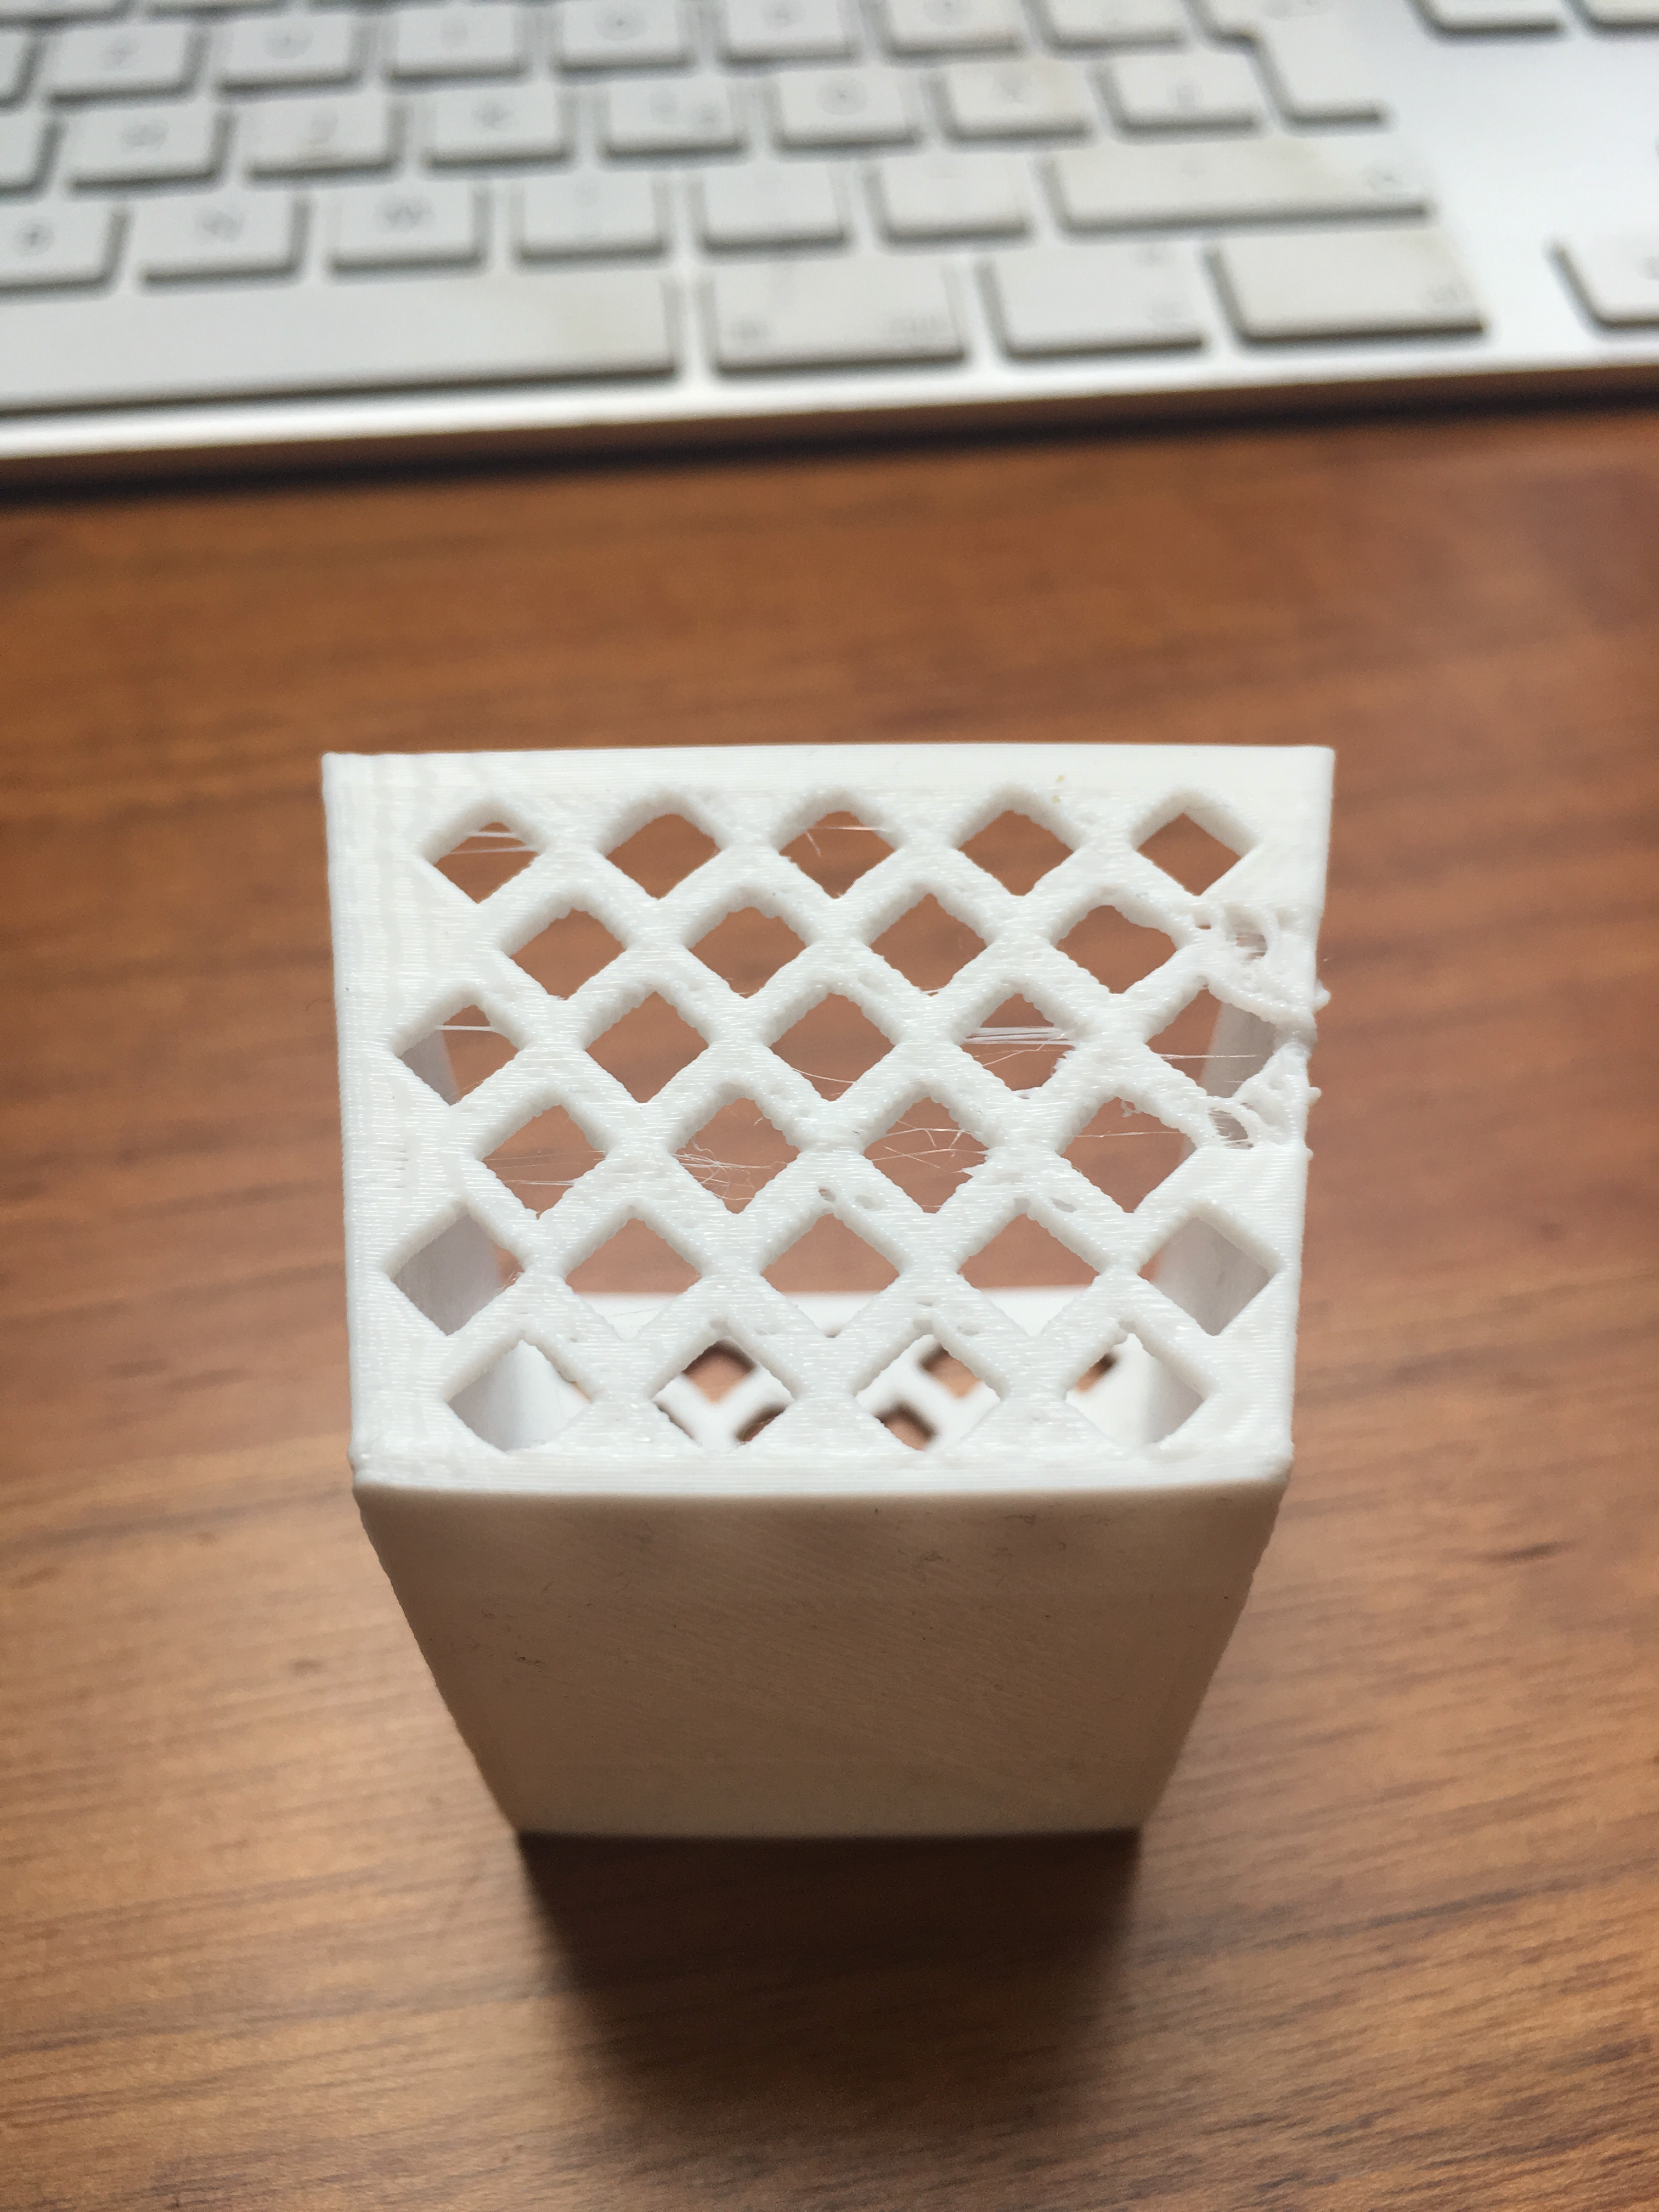3dpstringing: (927, 993, 1138, 1069), (871, 1108, 1004, 1176), (479, 1144, 596, 1219), (669, 1134, 784, 1209), (434, 812, 561, 878), (403, 1014, 544, 1064), (789, 805, 911, 862), (775, 1035, 871, 1106), (1068, 1108, 1171, 1163)
3dpunderextrusion: (1178, 885, 1340, 996), (1187, 1069, 1363, 1170), (901, 1289, 1002, 1350), (800, 1177, 908, 1231), (681, 1308, 805, 1355), (1056, 1183, 1087, 1231)
